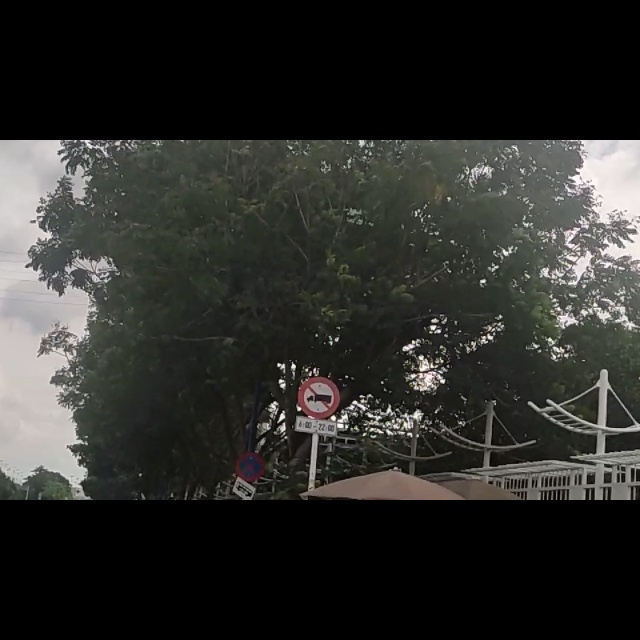bien_cam: (298, 420, 339, 525), (235, 555, 265, 603)
